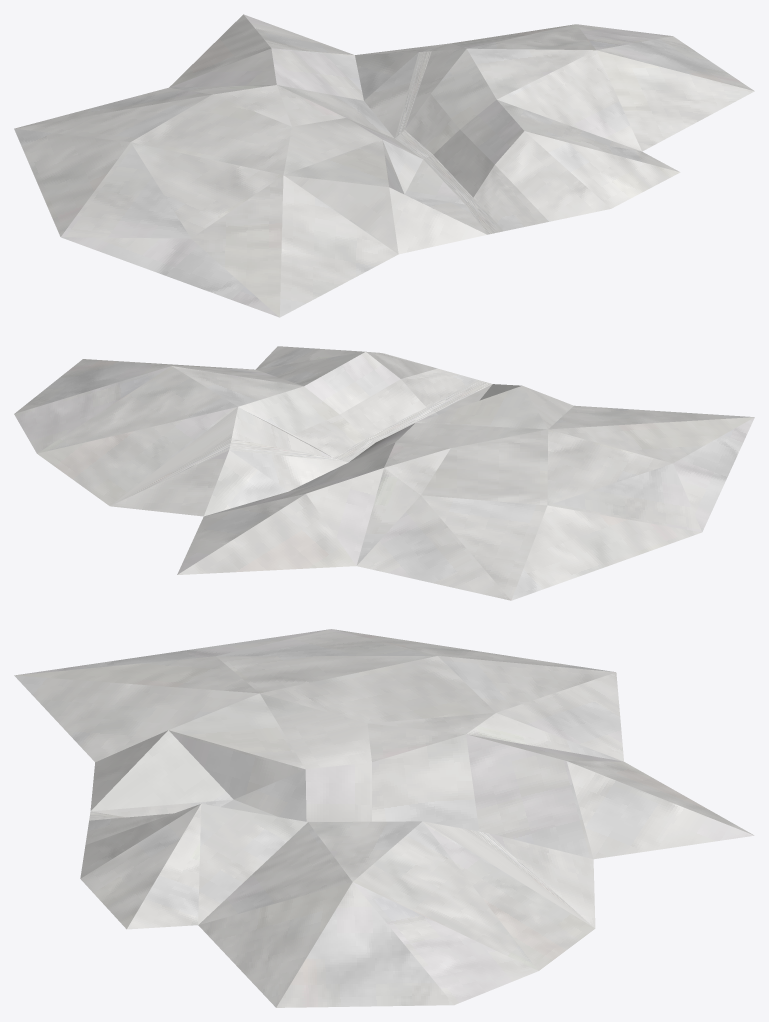
The model's file is snowmapstreventnew.glb.
3 renders of one model, top to bottom at view 1: azimuth 30°, elevation 25°; view 2: azimuth 150°, elevation 25°; view 3: azimuth 270°, elevation 25°, orthographic. The views are drawn at different scales.
Visible parts, largest first — view 1: mapchunk1, mapchunk3, mapchunk2, mapchunk4, map; view 2: mapchunk1, mapchunk3, mapchunk2, map, mapchunk4; view 3: mapchunk1, mapchunk3, mapchunk2, map.
Part boxes in pixels (box(x1,y1,x2,y2)): mapchunk1: box(14, 14, 487, 317); mapchunk3: box(431, 24, 754, 221); mapchunk2: box(405, 43, 548, 230); mapchunk4: box(395, 130, 503, 234); map: box(395, 43, 449, 138); mapchunk1: box(110, 384, 754, 600); mapchunk3: box(14, 346, 437, 505); mapchunk2: box(111, 368, 477, 505); map: box(113, 415, 347, 504); mapchunk4: box(334, 380, 492, 462); mapchunk1: box(14, 629, 754, 927); mapchunk3: box(80, 804, 595, 1007); mapchunk2: box(85, 813, 593, 927); map: box(471, 830, 592, 926).
Size of the model in its own units: 141 by 12.78 by 116.
Materials: 1 (1 with a texture image).
